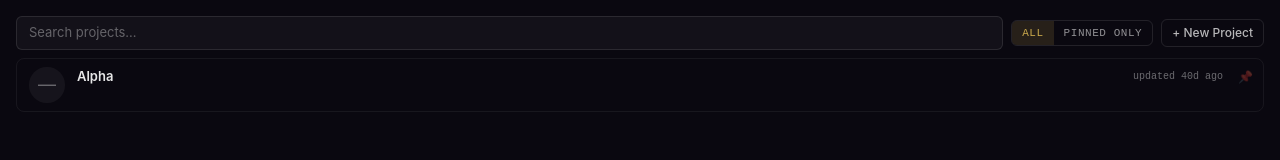
it: ProjectsTab — search & filter › shows a "no matches" empty state when the search clears the list
The width and height of the screenshot is (1280, 160).
In the field with placeholder "Search projects…": (510, 33) [16,16,1003,50], type "zzz"
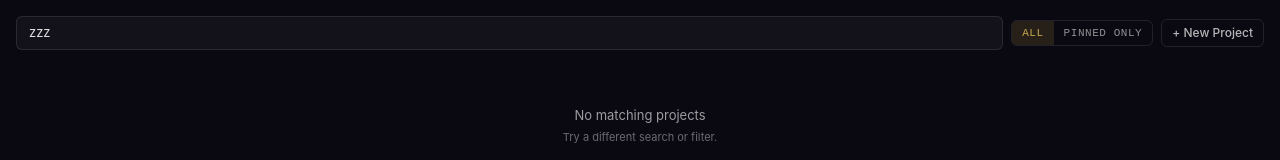
expect the text "No matching projects" is shown: met, box [574,106,706,125]
